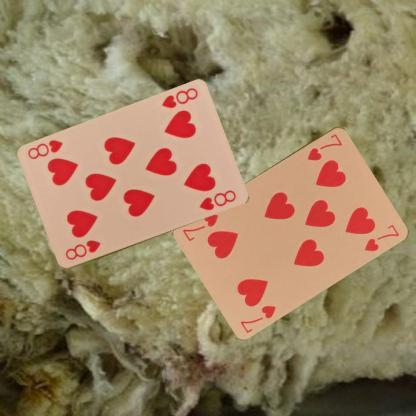7h: (237, 302, 278, 334), (304, 130, 344, 161)
8h: (158, 85, 200, 110), (62, 237, 102, 262)
